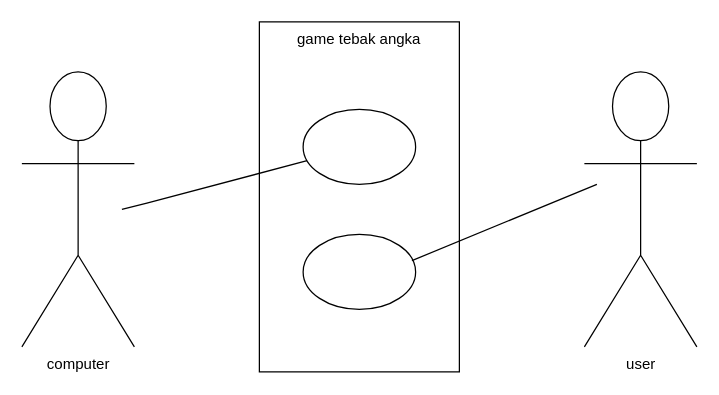
Image size: 719x395. Some labels were removed from this diagram. The shapes that lost their labels are listed below. From the top down, each one's centre as x and y in pixels, then its label:
(x=359, y=146): random angka
(x=359, y=271): tebak angka
